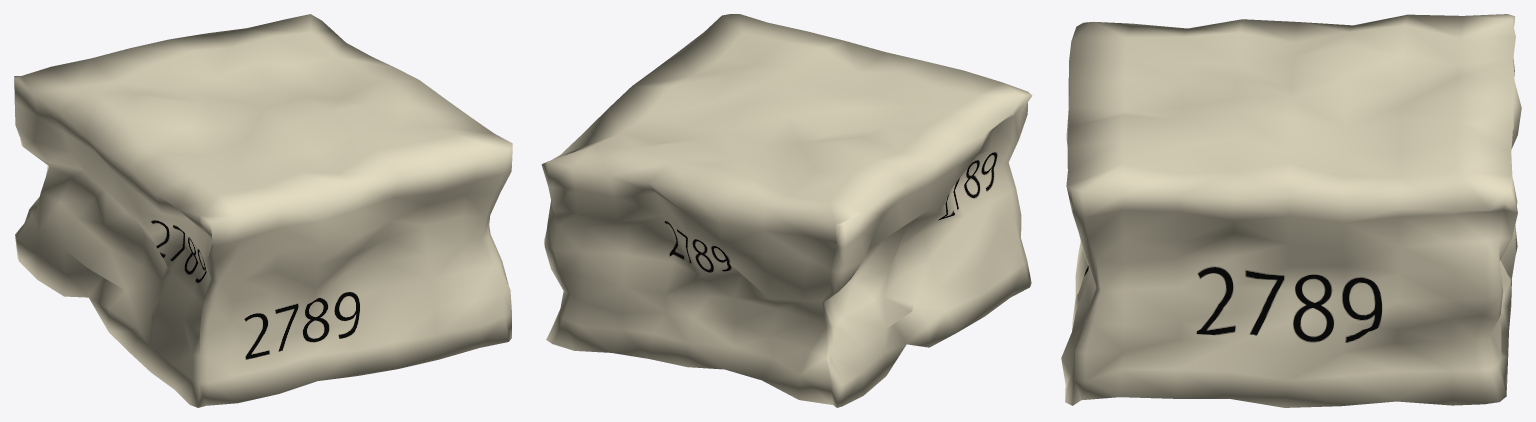
File: CTB_2789.dae
3 renders of one model, left to right at view 1: azimuth 30°, elevation 25°; view 2: azimuth 150°, elevation 25°; view 3: azimuth 270°, elevation 25°, orthographic. The views are drawn at different scales.
Visible parts, largest first — view 1: Cube; view 2: Cube; view 3: Cube.
Boxes of the visible parts, left/top/right/bottom form: Cube: left=14, top=14, right=512, bottom=407; Cube: left=541, top=14, right=1032, bottom=407; Cube: left=1061, top=14, right=1521, bottom=407.
Size of the model in its own units: 1.85 by 2.05 by 1.18.
1 material, 1 textured.
